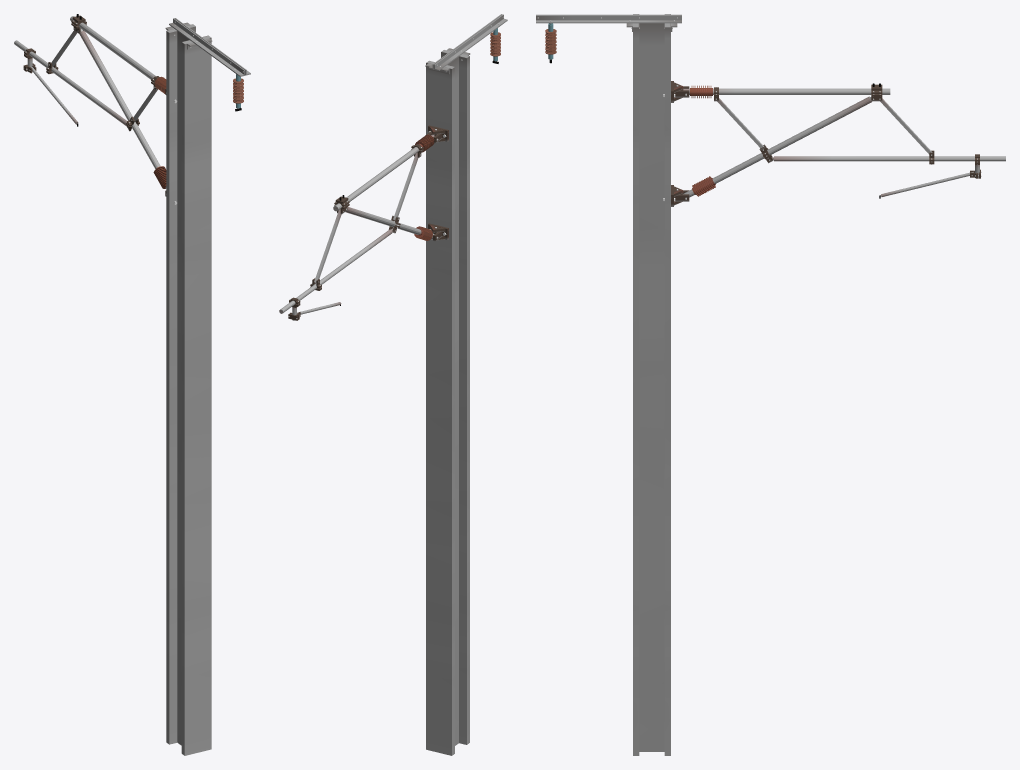
Rendered from catenary_long.obj.
3 renders of one model, left to right at view 1: azimuth 30°, elevation 25°; view 2: azimuth 150°, elevation 25°; view 3: azimuth 270°, elevation 25°, orthographic. The views are drawn at different scales.
Parts seen in each view (by area): view 1: cuboid, cylinder; view 2: cuboid, cylinder; view 3: cuboid, cylinder.
Part boxes in pixels (<box>): cuboid: <box>23,14,250,755</box>; cylinder: <box>14,16,243,204</box>; cuboid: <box>288,14,507,755</box>; cylinder: <box>279,16,503,320</box>; cuboid: <box>536,14,980,755</box>; cylinder: <box>537,17,1005,201</box>.
Size of the model in its own units: 0.3125 by 8 by 4.64.
1 material, 1 textured.
